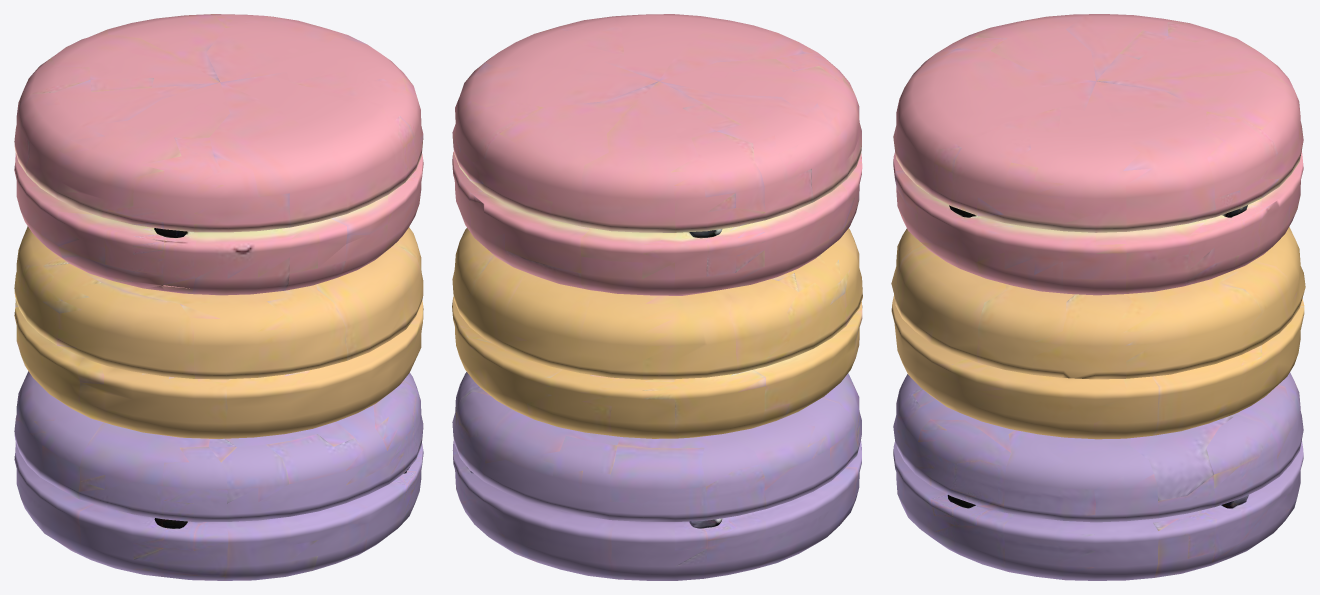
File: p_macaron.glb
3 views of the same model, side by side, from view 1: azimuth 30°, elevation 25°; view 2: azimuth 150°, elevation 25°; view 3: azimuth 270°, elevation 25° (orthographic).
Size of the model in its own units: 0.8179 by 0.9502 by 0.8257.
Materials: 1 (1 with a texture image).
